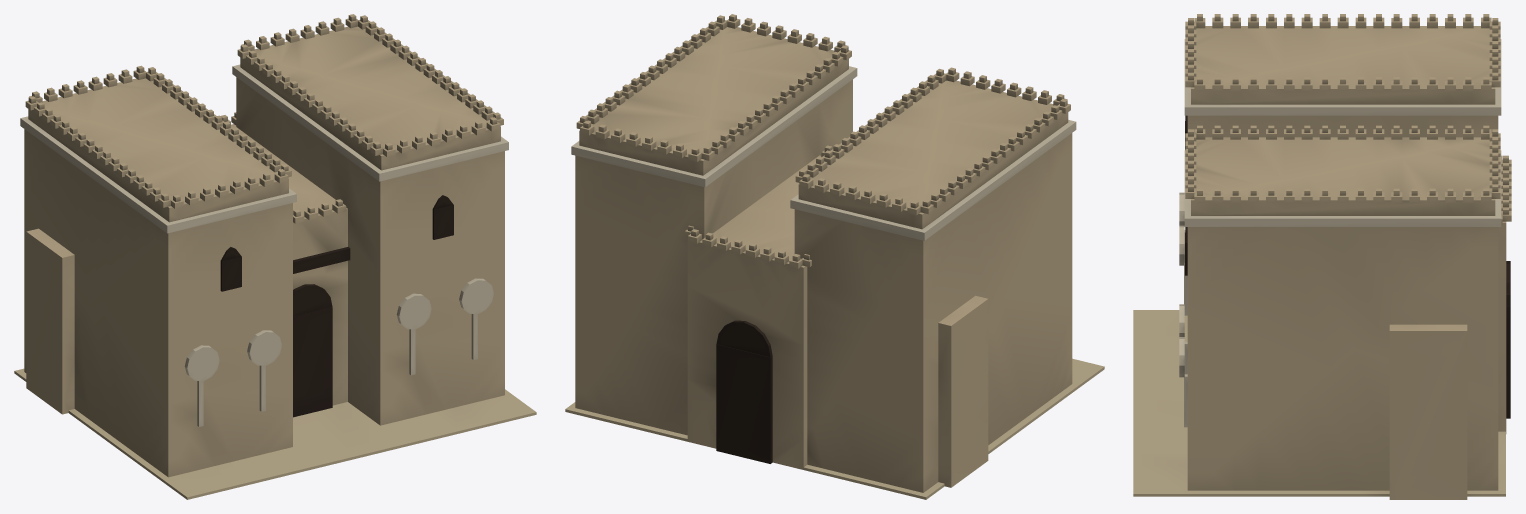
File: bab-al-nasr.glb
3 renders of one model, left to right at view 1: azimuth 30°, elevation 25°; view 2: azimuth 150°, elevation 25°; view 3: azimuth 270°, elevation 25°, orthographic. The views are drawn at different scales.
Parts seen in each view (by area): view 1: p1_gate, p2_parapets, p0_ground; view 2: p1_gate, p2_parapets, p0_ground; view 3: p1_gate, p2_parapets, p0_ground.
Boxes of the visible parts, <box> form: p1_gate: <box>20,64,508,477</box>; p2_parapets: <box>25,14,503,223</box>; p0_ground: <box>14,228,536,499</box>; p1_gate: <box>571,66,1076,492</box>; p2_parapets: <box>576,14,1070,268</box>; p0_ground: <box>565,295,1104,499</box>; p1_gate: <box>1179,39,1510,490</box>; p2_parapets: <box>1185,14,1511,225</box>; p0_ground: <box>1133,310,1505,499</box>.
Size of the model in its own units: 29 by 21.48 by 24.35.
